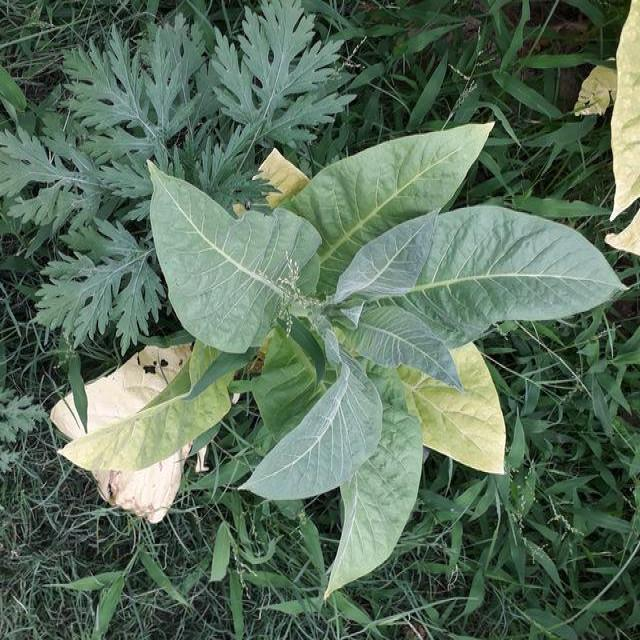crop: (142, 137, 596, 564)
